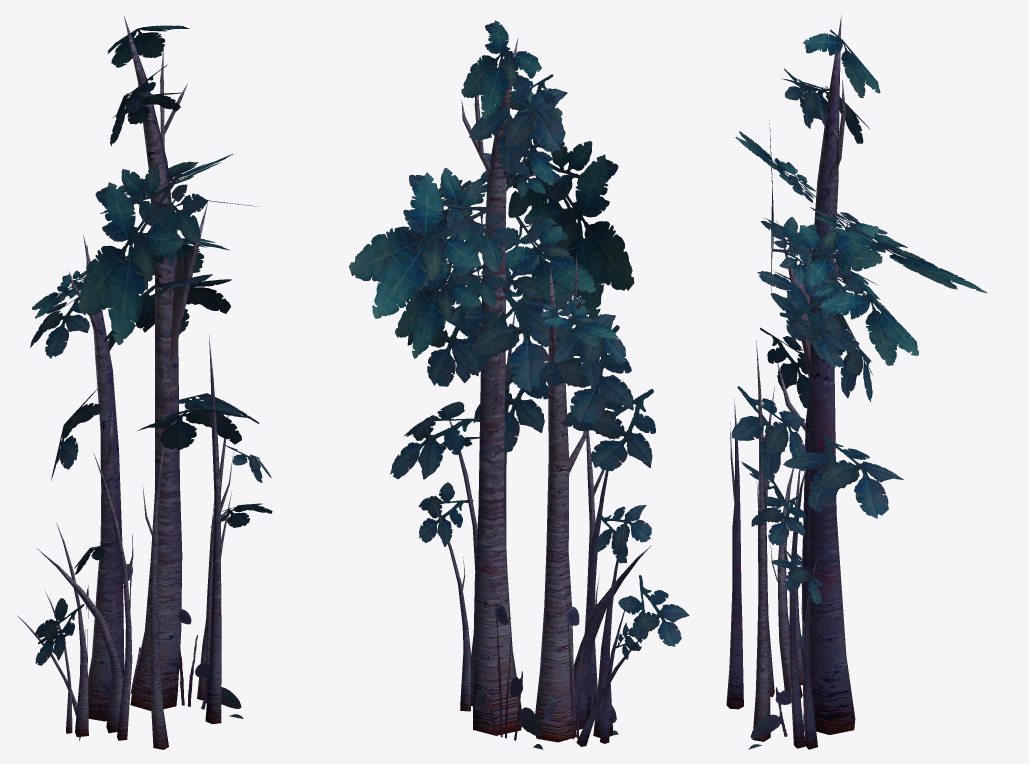
The model's file is yw_huanghunzhihu_shu02.FBX.
3 renders of one model, left to right at view 1: azimuth 30°, elevation 25°; view 2: azimuth 150°, elevation 25°; view 3: azimuth 270°, elevation 25°, orthographic.
Visible parts, largest first — view 1: yw_huanghunzhihu_shu02; view 2: yw_huanghunzhihu_shu02; view 3: yw_huanghunzhihu_shu02.
Part boxes in pixels (x1,y1,x2,y2): yw_huanghunzhihu_shu02: (17, 15, 272, 749); yw_huanghunzhihu_shu02: (349, 20, 689, 749); yw_huanghunzhihu_shu02: (726, 14, 987, 749).
Bounding box in the file's own units: 696 × 1605 × 595.
